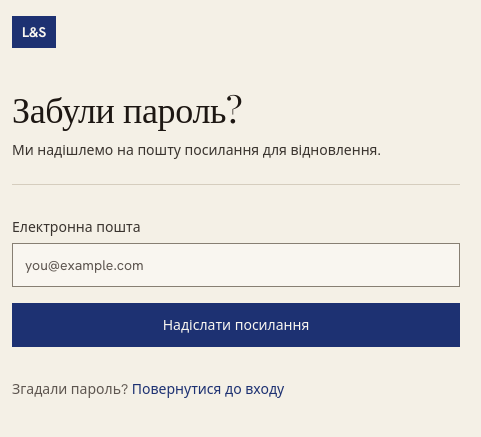
Scenario: ForgotPasswordPage › will not send an obviously broken address
This screenshot has width=481, height=437.
Type "not-an-address" into the field labelled "Електронна пошта" at x=236, y=265, box [12,243,460,287]
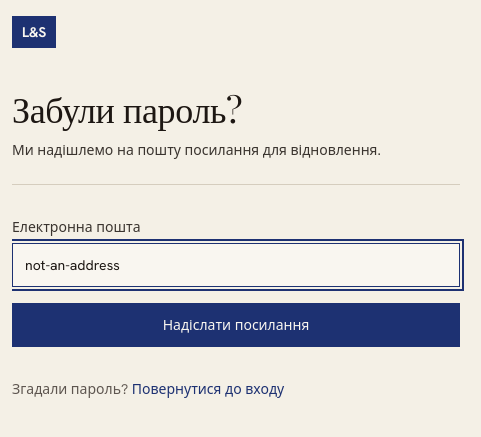
Click the button "Надіслати посилання" at x=236, y=325, box [12,303,460,347]
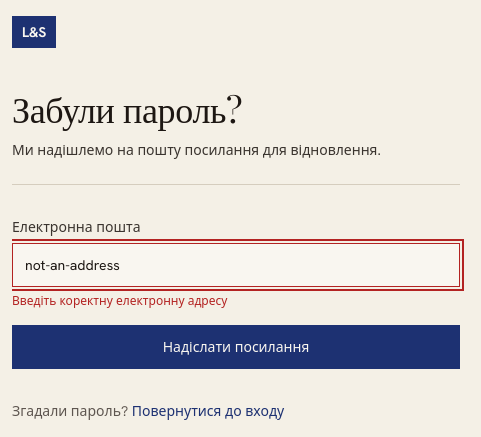
Now the text "Введіть коректну електронну адресу" is shown, box [12,293,227,309]
